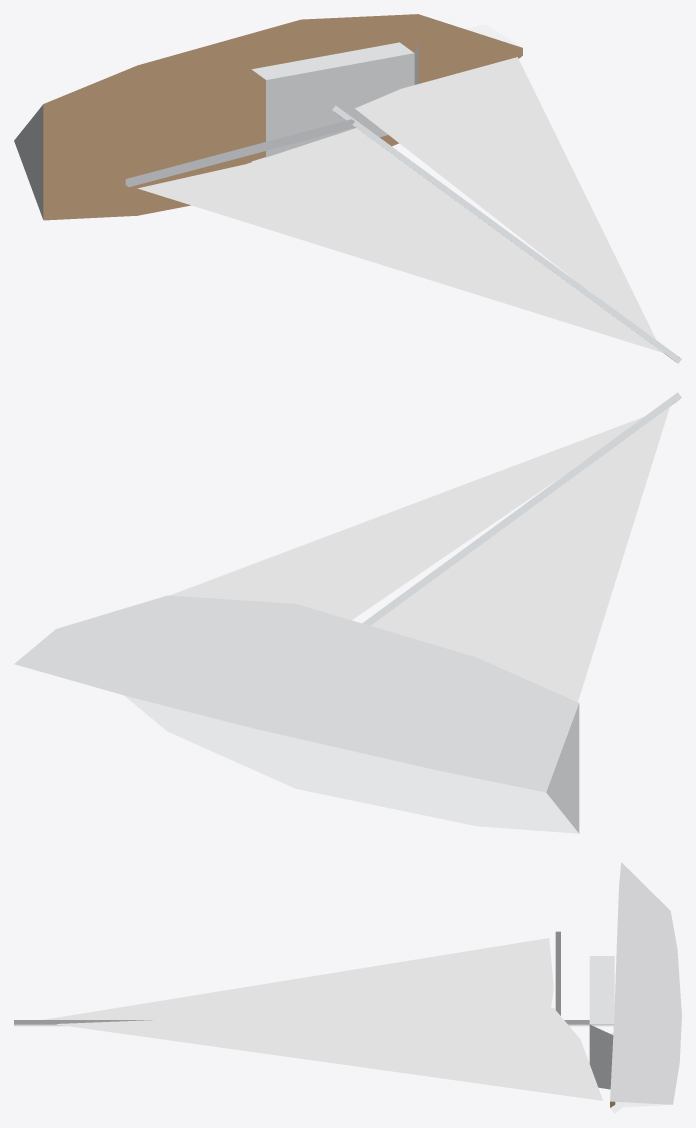
The model's file is sloop.glb.
3 renders of one model, top to bottom at view 1: azimuth 30°, elevation 25°; view 2: azimuth 150°, elevation 25°; view 3: azimuth 270°, elevation 25°, orthographic. The views are drawn at different scales.
Visible parts, largest first — view 1: RootVessel; view 2: RootVessel; view 3: RootVessel.
Boxes of the visible parts, x1,y1,x2,y2 form: RootVessel: (14, 14, 681, 363); RootVessel: (14, 392, 681, 833); RootVessel: (14, 862, 681, 1113).
Bounding box in the file's own units: 10.2 × 3.4 × 14.85.
